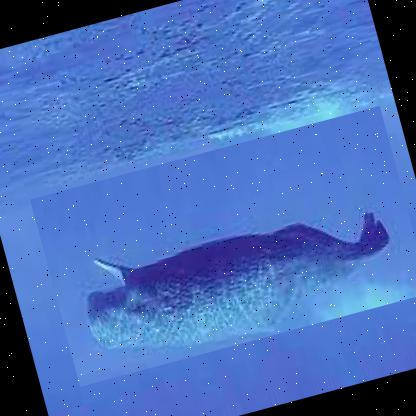sperm_whale: (29, 105, 415, 388)
